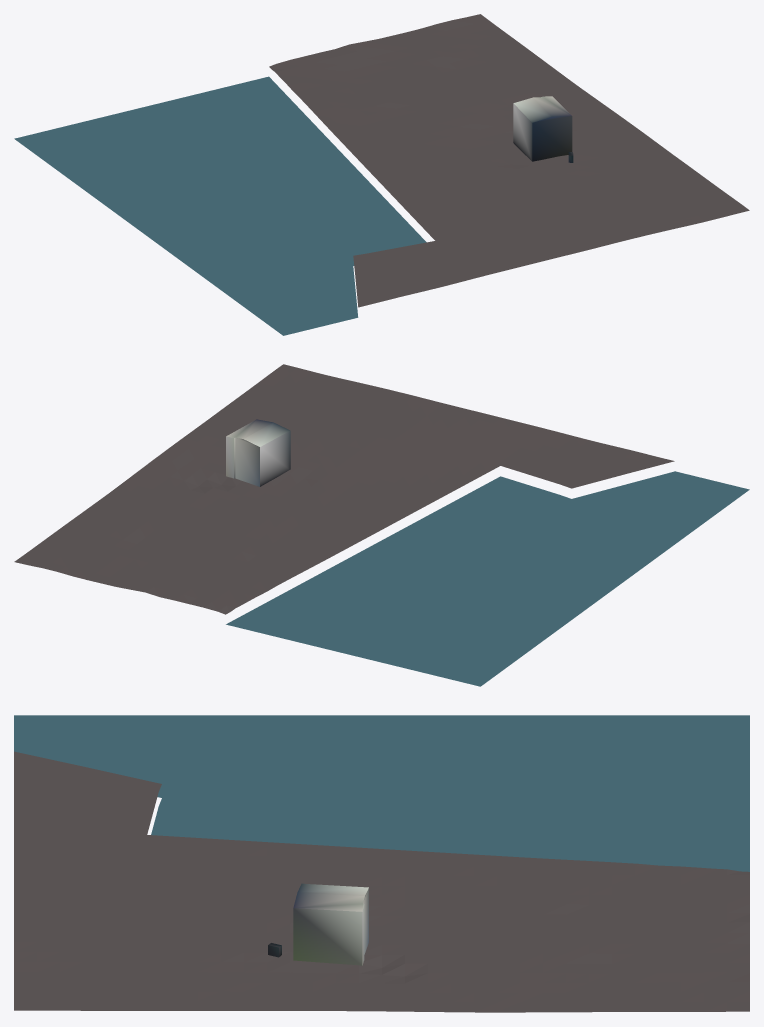
3 views of the same model, one above another, from view 1: azimuth 30°, elevation 25°; view 2: azimuth 150°, elevation 25°; view 3: azimuth 270°, elevation 25° (orthographic). The views are drawn at different scales.
Visible parts, largest first — view 1: c_m12_p13; view 2: c_m12_p13; view 3: c_m12_p13.
Part boxes in pixels (x1=…): c_m12_p13: x1=14, y1=14, x2=749, y2=335; c_m12_p13: x1=14, y1=364, x2=749, y2=686; c_m12_p13: x1=14, y1=715, x2=749, y2=1012.
Bounding box in the file's own units: 128 × 13.68 × 128.
